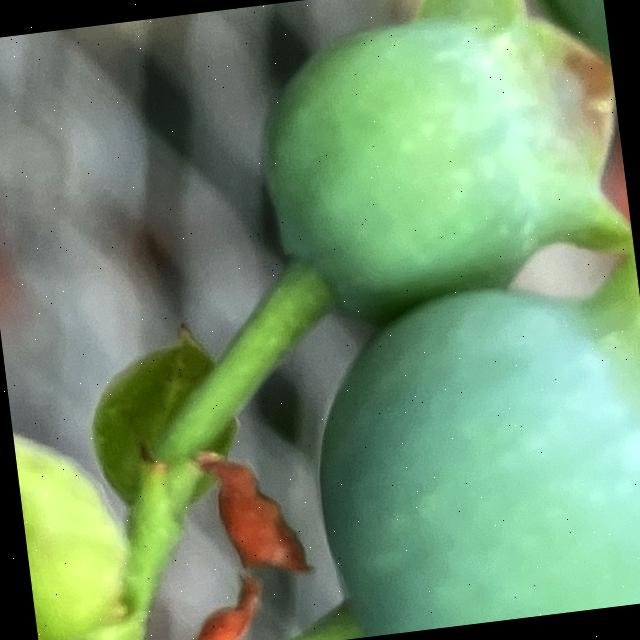Blueberries: (290, 251, 640, 640), (241, 0, 638, 331)
